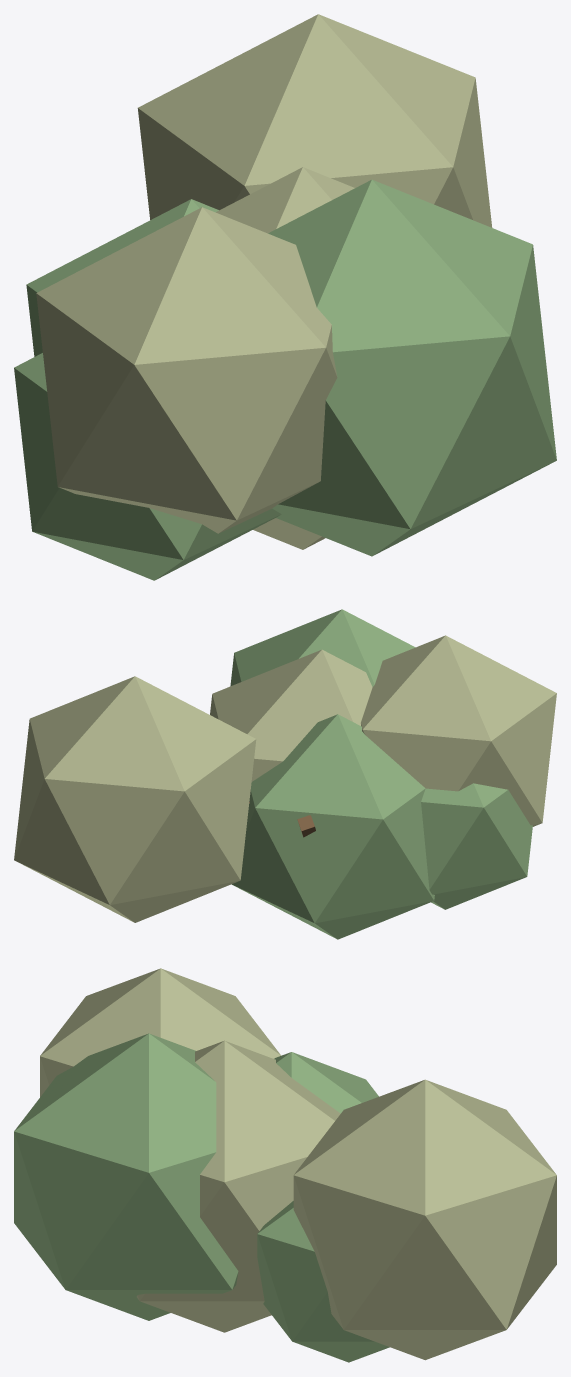
The model's file is SM_Shrub_Desert.glb.
The picture shows the model from 3 angles, top to bottom: view 1: azimuth 30°, elevation 25°; view 2: azimuth 150°, elevation 25°; view 3: azimuth 270°, elevation 25°; orthographic projection. The views are drawn at different scales.
Parts seen in each view (by area): view 1: SM_Shrub_Desert; view 2: SM_Shrub_Desert; view 3: SM_Shrub_Desert.
Part boxes in pixels (box(x1,y1,x2,y2)): SM_Shrub_Desert: box(14, 14, 556, 580); SM_Shrub_Desert: box(14, 609, 556, 939); SM_Shrub_Desert: box(14, 968, 556, 1362).
Bounding box in the file's own units: 0.9172 × 0.605 × 0.9542.
